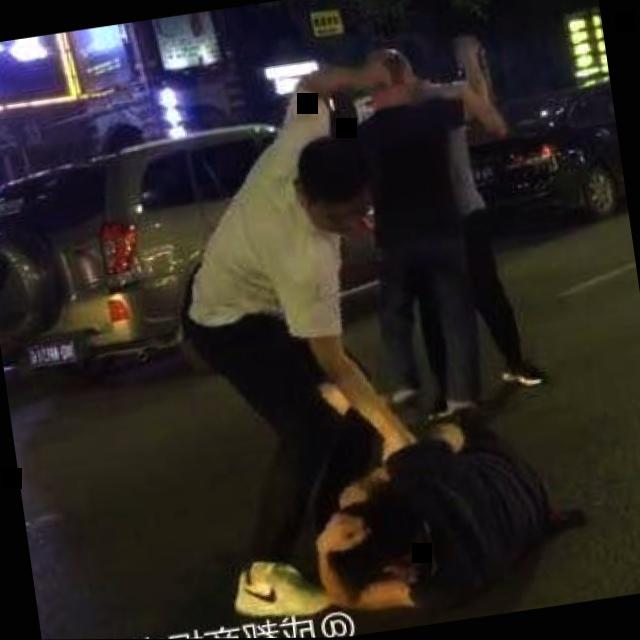Fall-Detected: (250, 346, 604, 639)
